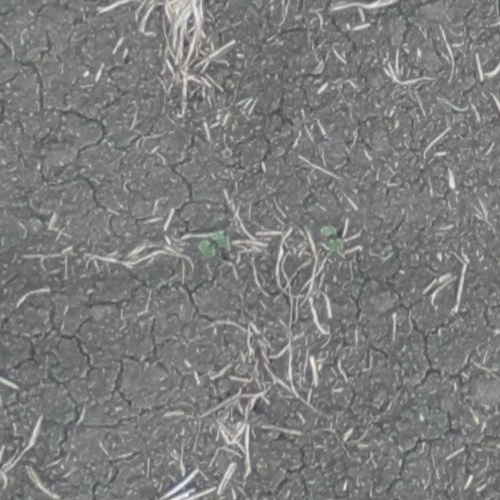plant: (198, 232, 229, 259), (319, 223, 344, 251)
